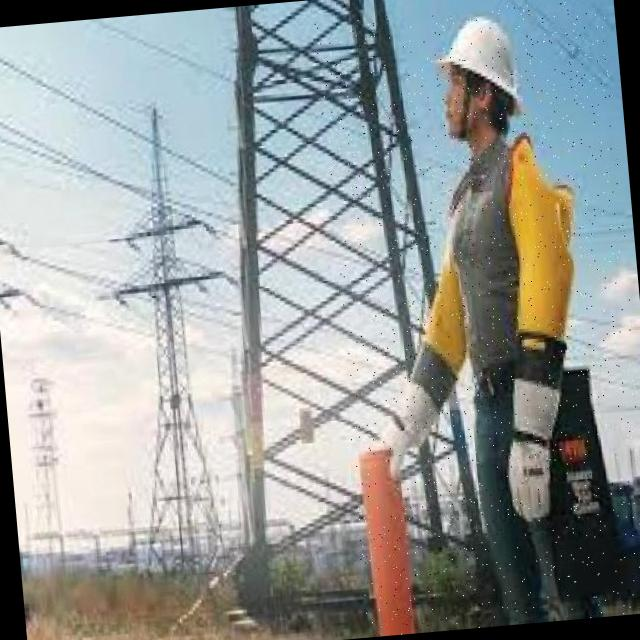hard_hat: (436, 12, 530, 128)
vehicle: (313, 0, 640, 637)
